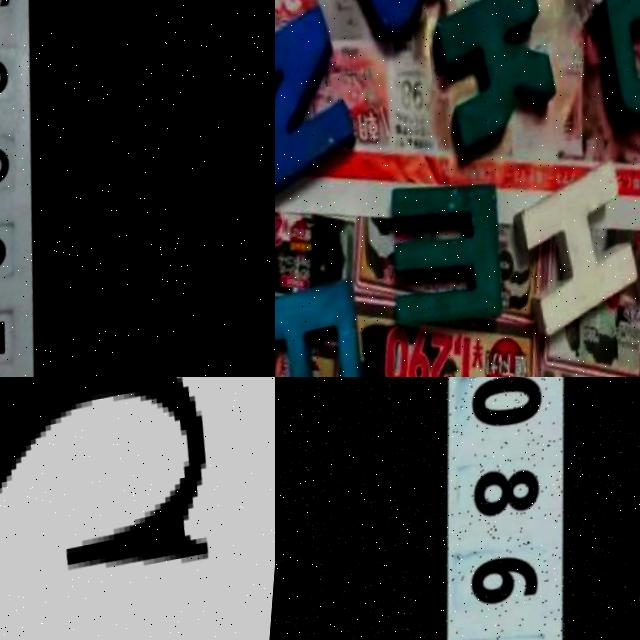0: (444, 377, 577, 456), (0, 127, 31, 205)
3: (455, 615, 570, 640)
5: (0, 301, 31, 376)
6: (449, 523, 575, 630)
8: (450, 438, 573, 541), (0, 218, 29, 287)
9: (0, 40, 30, 117)
B: (332, 0, 479, 48)
D: (585, 0, 640, 142)
H: (510, 157, 640, 349)
K: (431, 0, 575, 153)
M: (383, 174, 522, 341)
N: (275, 0, 373, 211)
P: (275, 275, 380, 377)
S: (0, 377, 256, 640)
